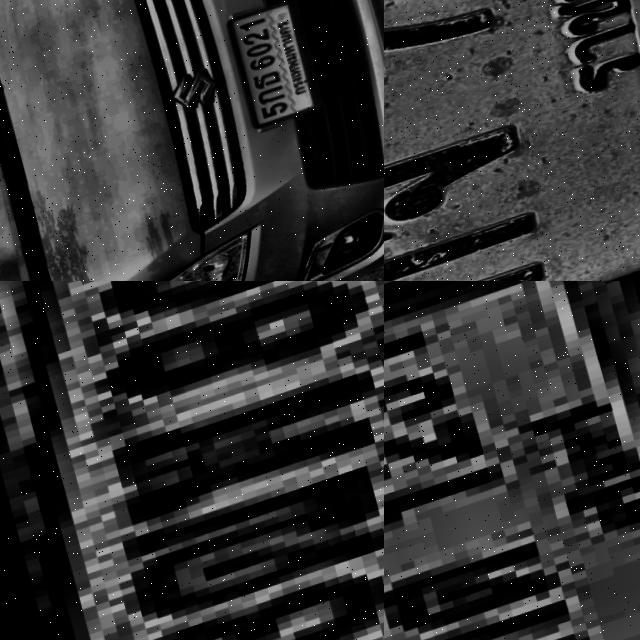license-plate: (0, 281, 384, 640), (384, 281, 640, 640), (384, 0, 640, 281), (214, 0, 326, 149)
